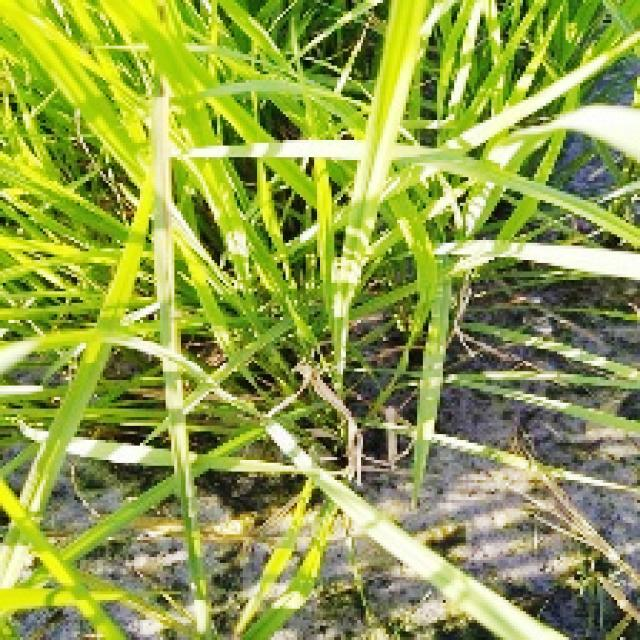-: (0, 0, 147, 400)
